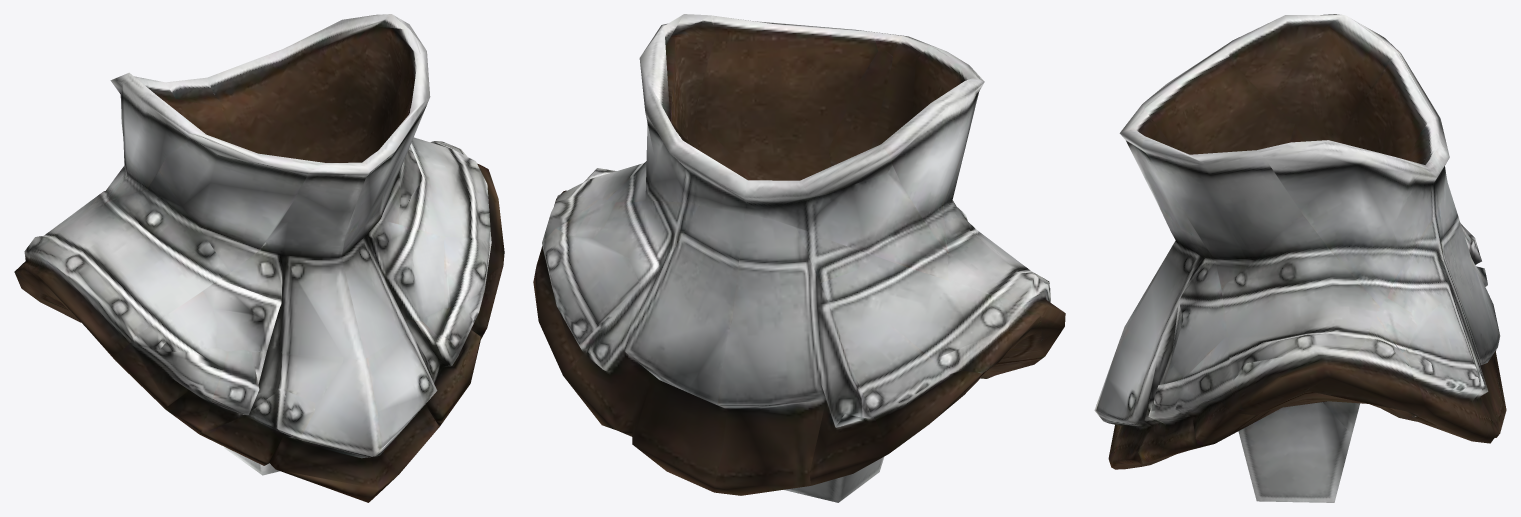
Rendered from Iron_Gorget_Armor.glb.
3 views of the same model, side by side, from view 1: azimuth 30°, elevation 25°; view 2: azimuth 150°, elevation 25°; view 3: azimuth 270°, elevation 25° (orthographic). The views are drawn at different scales.
Bounding box in the file's own units: 1.89 × 1.62 × 1.47.
1 material, 1 textured.
